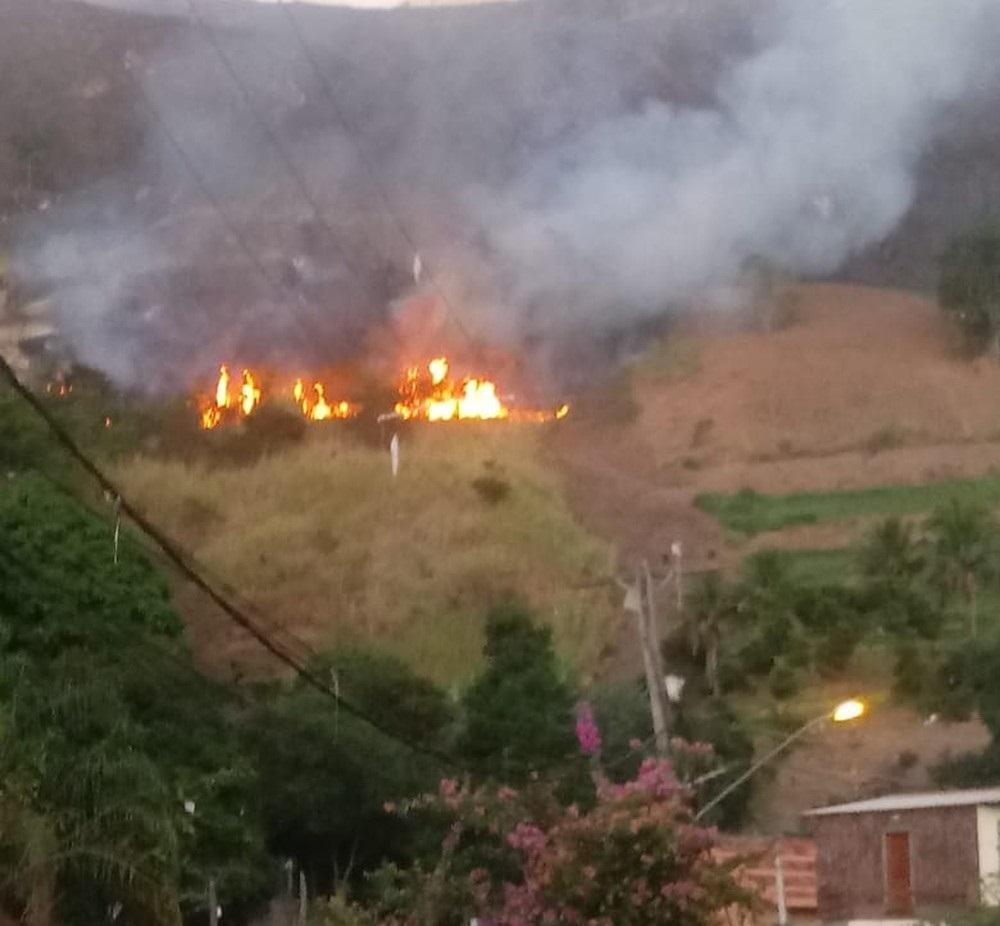fire: (418, 382, 510, 422), (202, 370, 265, 415), (300, 388, 350, 425), (420, 355, 448, 390)
smoke: (145, 78, 392, 315), (470, 132, 822, 272)
